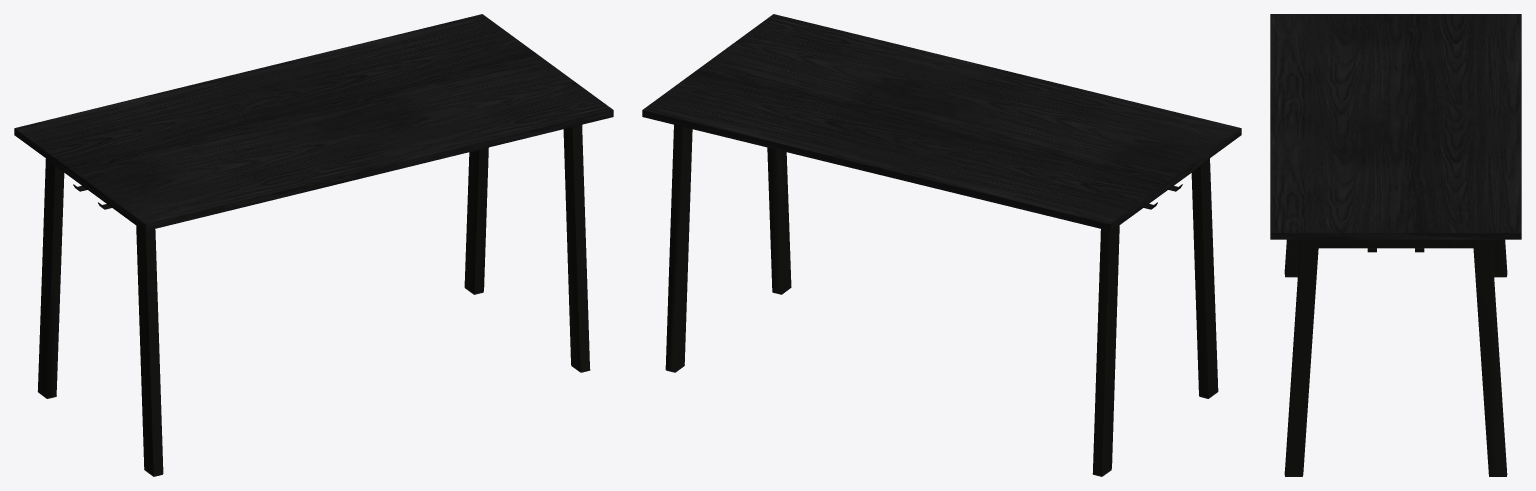
The model's file is 96 - MITTZON - 會議桌, 黑色實木貼皮 梣木黑色, 140x68x75 公分 IKEA 線上購物.glb.
3 views of the same model, side by side, from view 1: azimuth 30°, elevation 25°; view 2: azimuth 150°, elevation 25°; view 3: azimuth 270°, elevation 25° (orthographic). The views are drawn at different scales.
Visible parts, largest first — view 1: Mesh_0, Mesh_1; view 2: Mesh_0, Mesh_1; view 3: Mesh_0, Mesh_1.
Boxes of the visible parts, bbox=[...] form: Mesh_0: bbox=[14, 14, 613, 230]; Mesh_1: bbox=[37, 125, 590, 476]; Mesh_0: bbox=[642, 14, 1241, 230]; Mesh_1: bbox=[665, 124, 1218, 476]; Mesh_0: bbox=[1270, 14, 1521, 239]; Mesh_1: bbox=[1284, 239, 1507, 476].
Size of the model in its own units: 1.4 by 0.7502 by 0.6797.
Materials: 2 (2 with a texture image).
